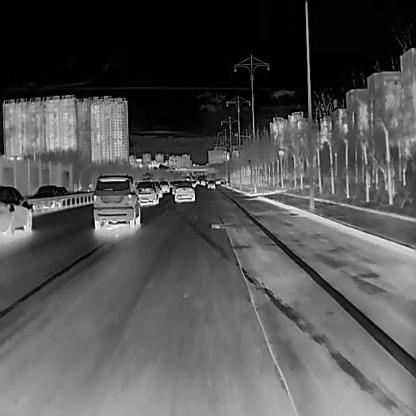car: (92, 173, 139, 228), (0, 184, 32, 236), (32, 184, 62, 210), (134, 180, 158, 204), (173, 181, 194, 202), (159, 180, 169, 192), (206, 180, 214, 188)
